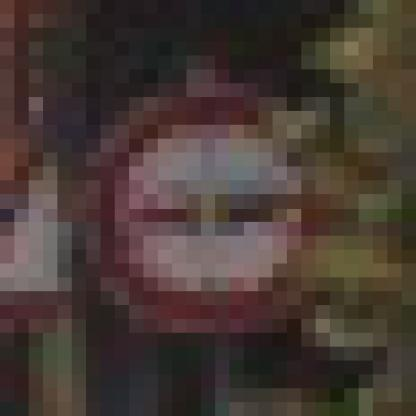No Overtaking: (73, 70, 345, 348)
